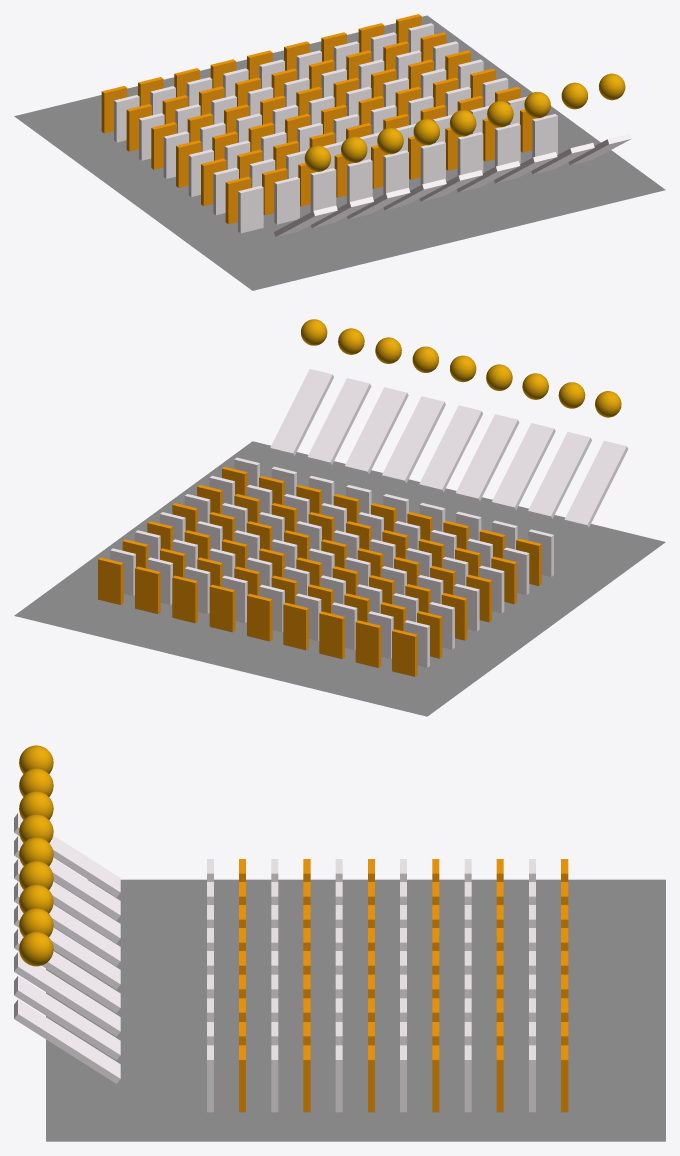
The model's file is asset.glb.
3 views of the same model, one above another, from view 1: azimuth 30°, elevation 25°; view 2: azimuth 150°, elevation 25°; view 3: azimuth 270°, elevation 25° (orthographic). The views are drawn at different scales.
Parts seen in each view (by area): view 1: 平面, Cube, Cube.012, 球, Cube.001, Cube.008, Cube.009, Cube.011, Cube.010, Cube.006, Cube.005, Cube.007 (+3 smaller); view 2: 平面, Cube.012, Cube.011, Cube.010, 球, Cube.008, Cube.007, Cube.003, Cube.005, Cube.002, Cube.009, Cube.004 (+3 smaller); view 3: 平面, Cube.012, 球, Cube.003, Cube.002, Cube.004, Cube.007, Cube.008, Cube.009, Cube.011, Cube, Cube.001 (+3 smaller).
Part boxes in pixels (bbox=[...]): 平面: bbox=[14, 15, 665, 290]; Cube: bbox=[238, 114, 557, 233]; Cube.012: bbox=[274, 133, 631, 237]; 球: bbox=[304, 73, 625, 171]; Cube.001: bbox=[225, 109, 545, 224]; Cube.008: bbox=[139, 41, 458, 160]; Cube.009: bbox=[126, 32, 446, 151]; Cube.011: bbox=[101, 14, 421, 133]; Cube.010: bbox=[114, 23, 433, 142]; Cube.006: bbox=[163, 59, 483, 178]; Cube.005: bbox=[176, 68, 495, 187]; Cube.007: bbox=[151, 50, 470, 169]; 平面: bbox=[14, 441, 665, 716]; Cube.012: bbox=[270, 369, 628, 527]; Cube.011: bbox=[98, 557, 417, 676]; Cube.010: bbox=[110, 548, 429, 667]; 球: bbox=[301, 319, 621, 417]; Cube.008: bbox=[135, 530, 454, 649]; Cube.007: bbox=[147, 521, 467, 640]; Cube.003: bbox=[197, 485, 516, 604]; Cube.005: bbox=[172, 503, 491, 622]; Cube.002: bbox=[209, 475, 529, 595]; Cube.009: bbox=[122, 539, 442, 658]; Cube.004: bbox=[184, 494, 504, 613]; 平面: bbox=[46, 879, 665, 1141]; Cube.012: bbox=[14, 813, 120, 1083]; 球: bbox=[19, 745, 53, 966]; Cube.003: bbox=[303, 859, 310, 1112]; Cube.002: bbox=[271, 859, 278, 1112]; Cube.004: bbox=[335, 859, 342, 1112]; Cube.007: bbox=[432, 859, 439, 1112]; Cube.008: bbox=[464, 859, 471, 1112]; Cube.009: bbox=[496, 859, 503, 1112]; Cube.011: bbox=[561, 859, 568, 1112]; Cube: bbox=[207, 859, 213, 1112]; Cube.001: bbox=[239, 859, 245, 1112].
Size of the model in its own units: 35.86 by 10.95 by 37.72.
